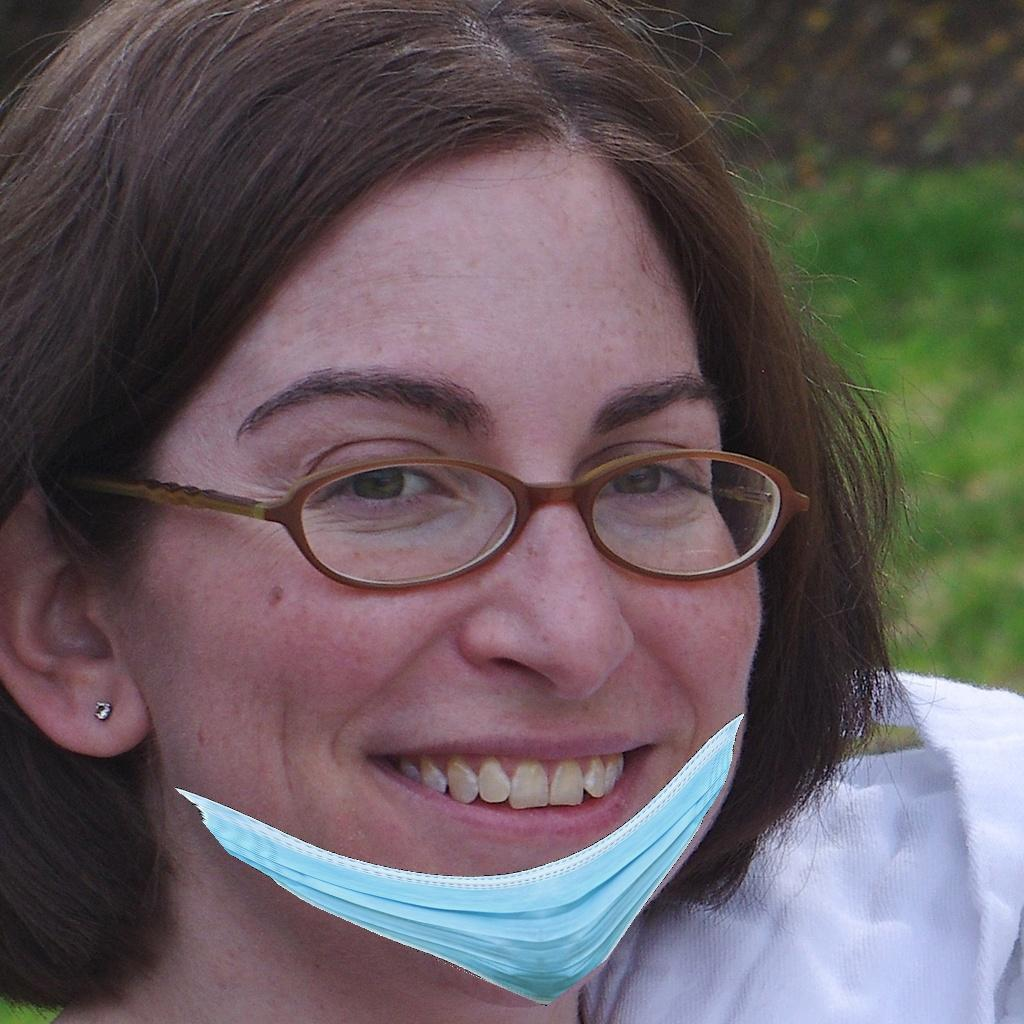Máscara Incorreta: (155, 326, 755, 1002)
